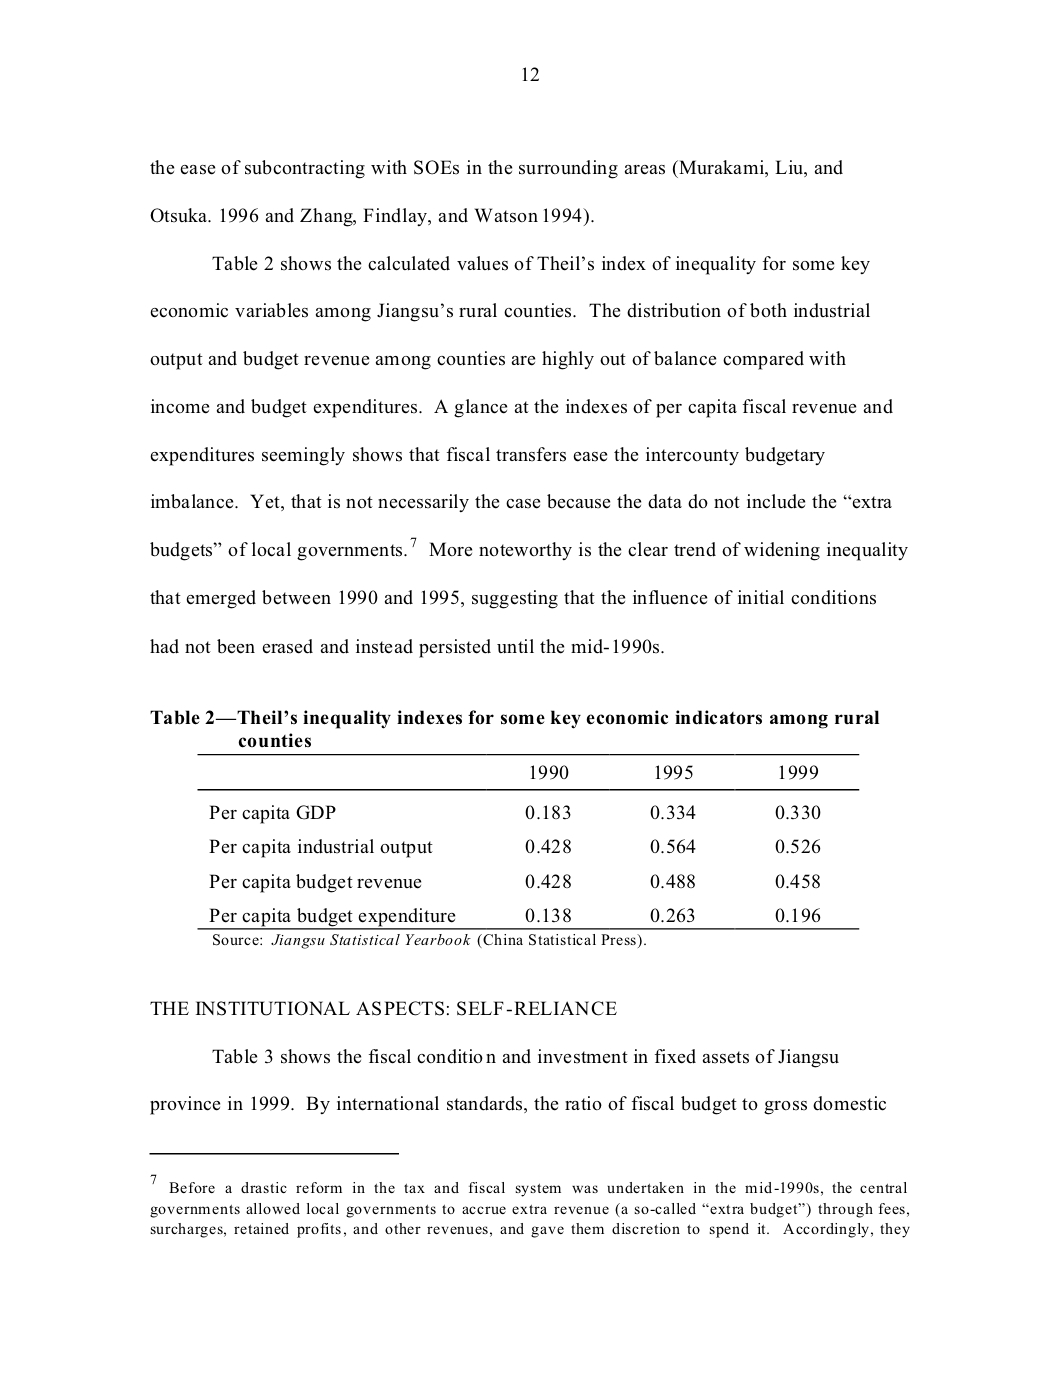Table: (197, 754, 859, 929)
figure: (149, 1152, 398, 1155)
